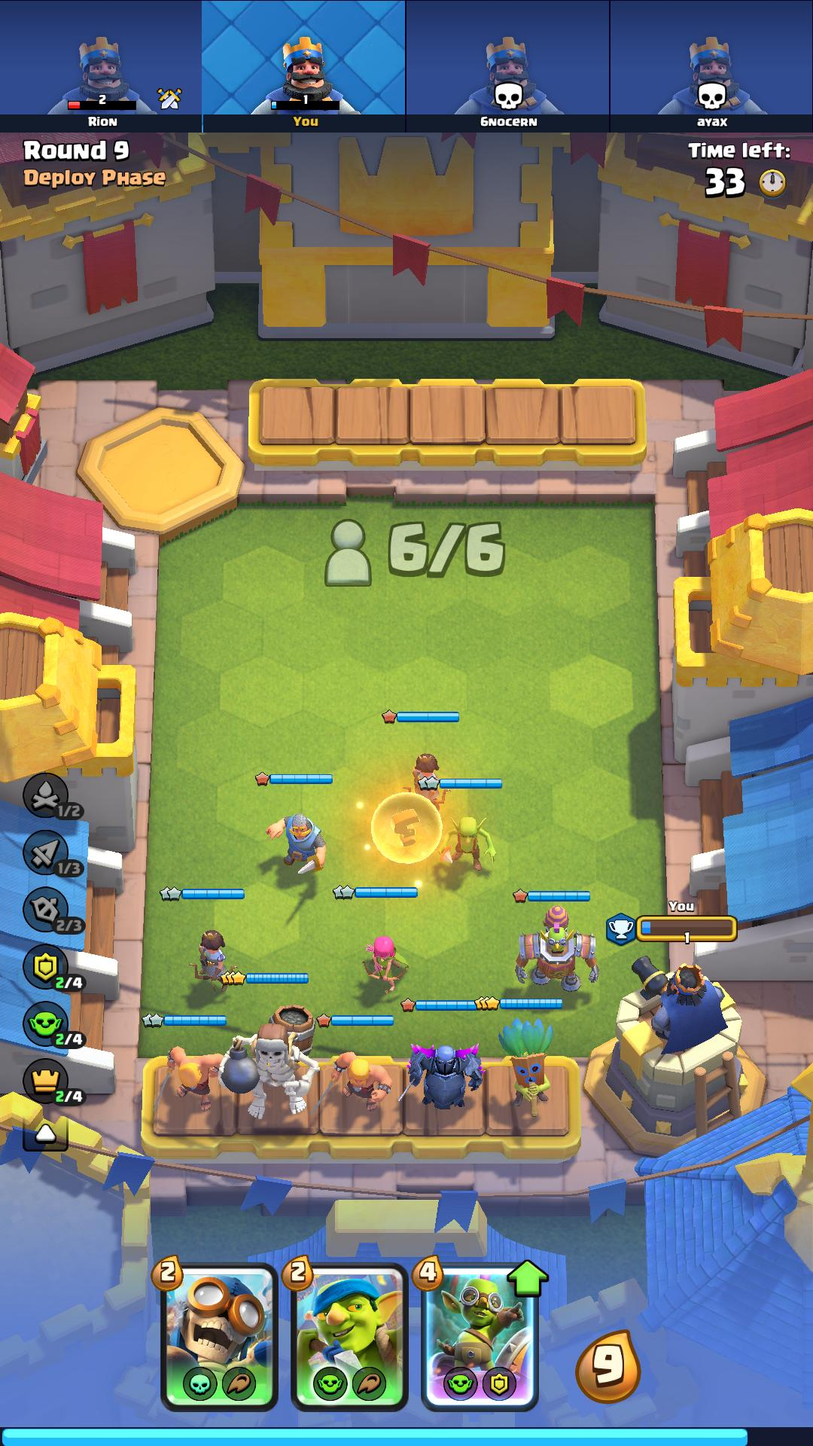archer: (354, 927, 412, 988)
barbarian: (146, 1040, 227, 1110), (319, 1045, 396, 1106)
dart: (493, 1010, 558, 1107)
giant: (218, 1000, 323, 1124)
goblin: (444, 805, 504, 878)
hand-bomber: (163, 1265, 277, 1409)
hand-machine: (423, 1266, 537, 1402)
hand-spear: (295, 1267, 408, 1406)
knight: (258, 806, 337, 877)
machine: (504, 903, 602, 998)
orb: (366, 789, 446, 863)
pekka: (395, 1033, 489, 1112)
princess: (185, 922, 234, 985)
upgrade: (505, 1256, 550, 1299)
